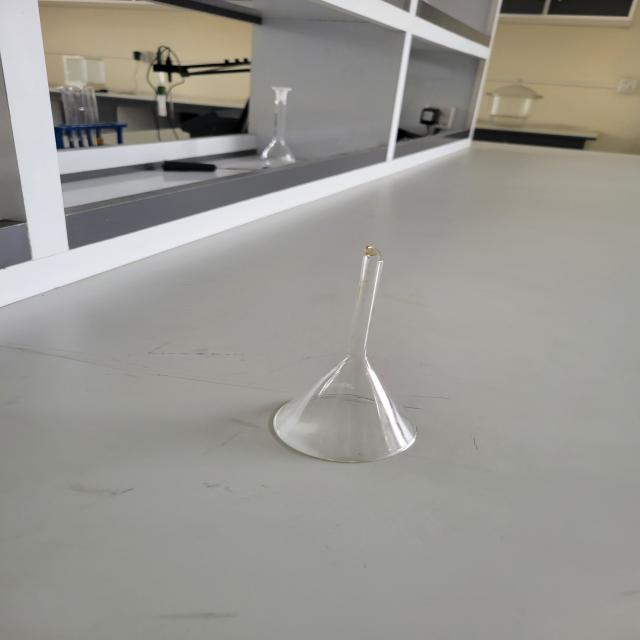Funnel: (236, 213, 462, 484)
